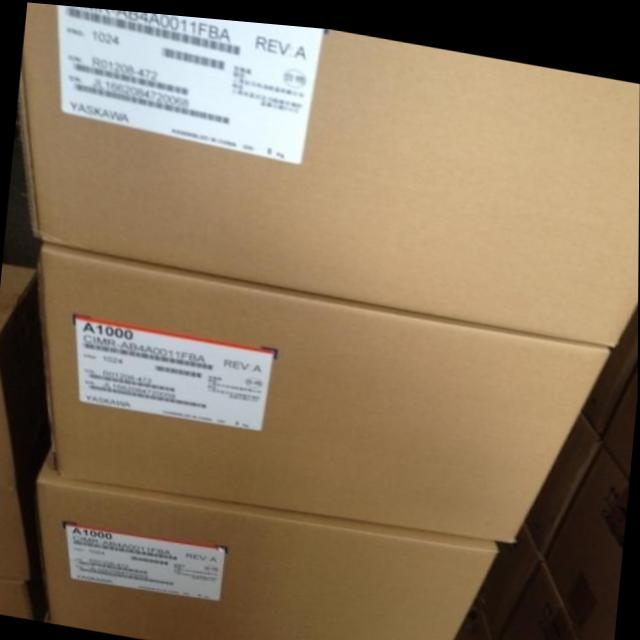box: (17, 2, 640, 336), (36, 247, 614, 530), (40, 455, 502, 640), (545, 438, 630, 640), (0, 263, 52, 577), (525, 400, 601, 544), (477, 512, 544, 640), (496, 551, 588, 640), (603, 353, 638, 462), (449, 592, 497, 640), (0, 579, 31, 618)
